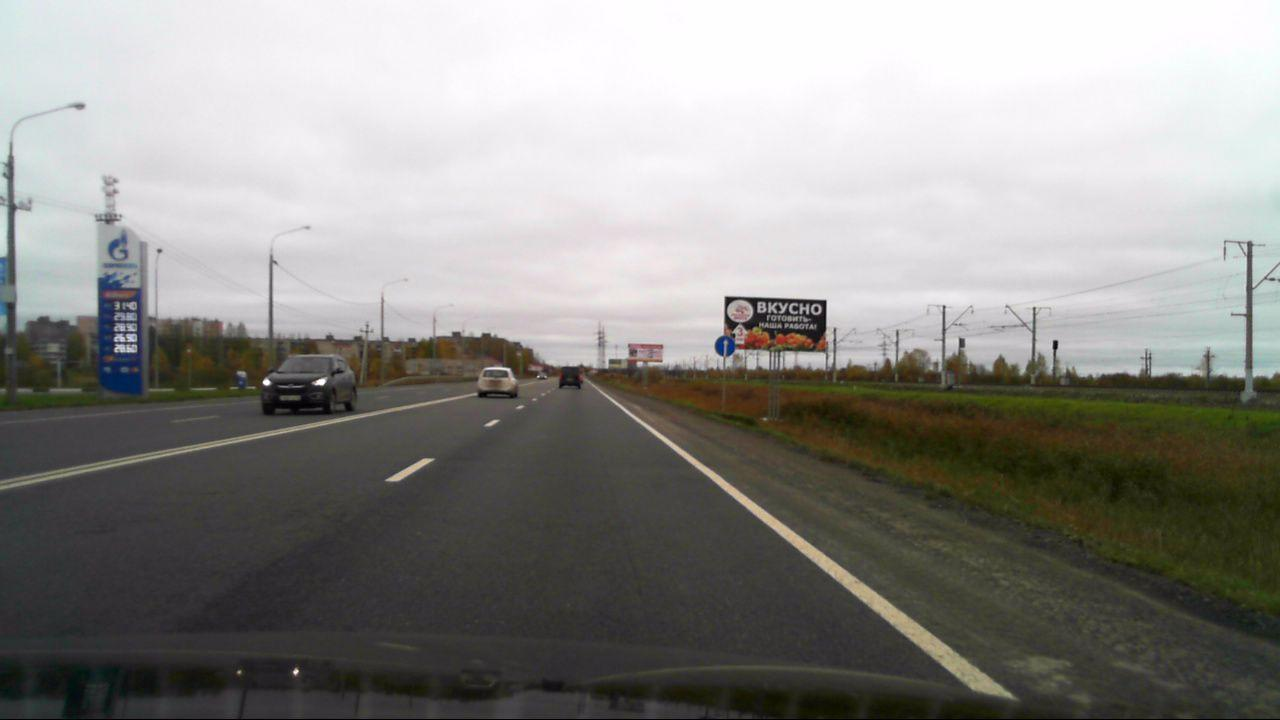road_sign: (714, 336, 735, 357)
